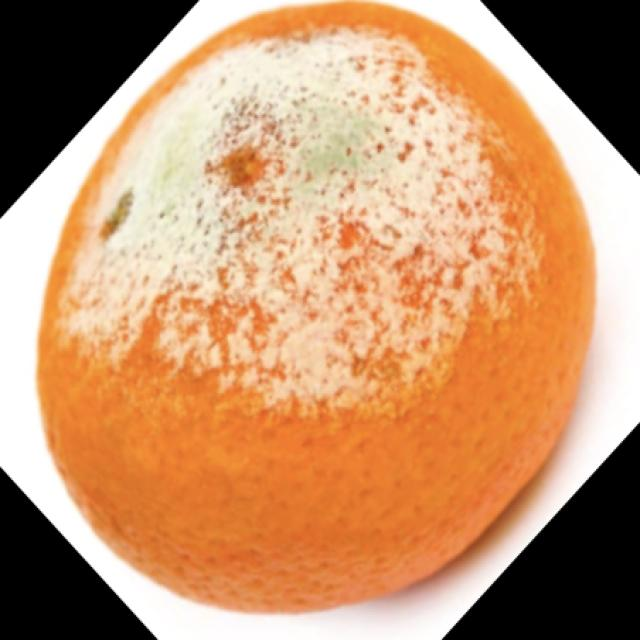sedikit_busuk: (36, 1, 593, 600)
